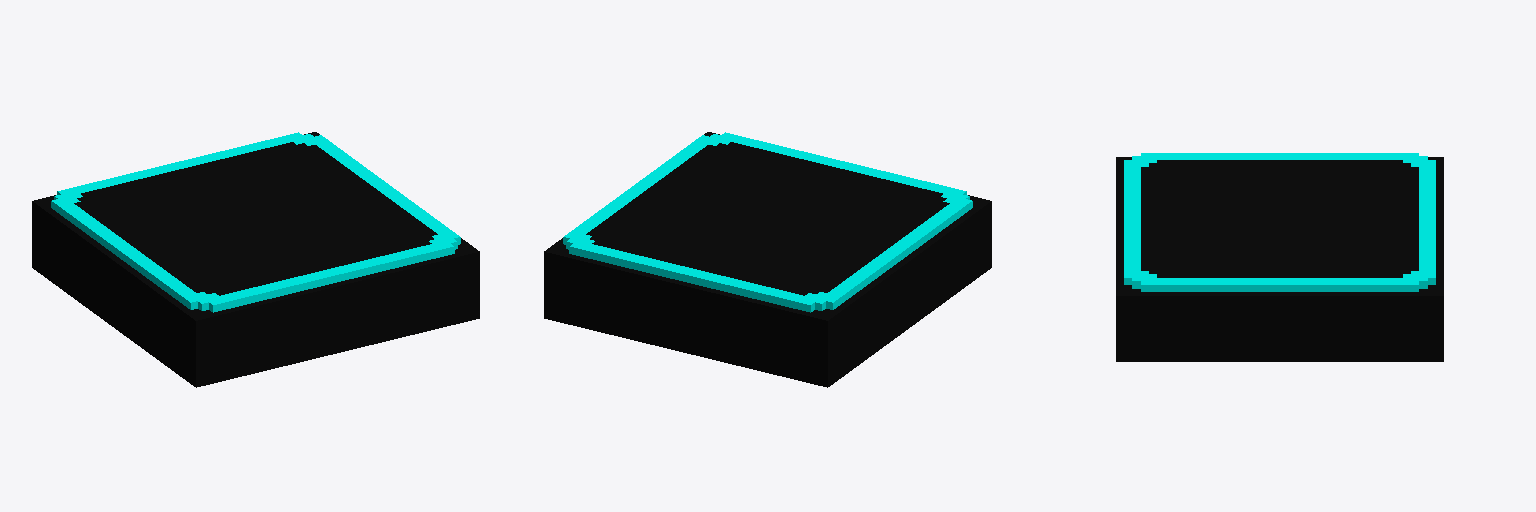
3 renders of one model, left to right at view 1: azimuth 30°, elevation 25°; view 2: azimuth 150°, elevation 25°; view 3: azimuth 270°, elevation 25°, orthographic.
Parts seen in each view (by area): view 1: object 1; view 2: object 1; view 3: object 1.
Part boxes in pixels (bbox=[...]): object 1: bbox=[32, 132, 479, 387]; object 1: bbox=[544, 132, 991, 387]; object 1: bbox=[1116, 153, 1443, 361].
Size of the model in its own units: 4 by 1 by 4.
Materials: 1 (1 with a texture image).